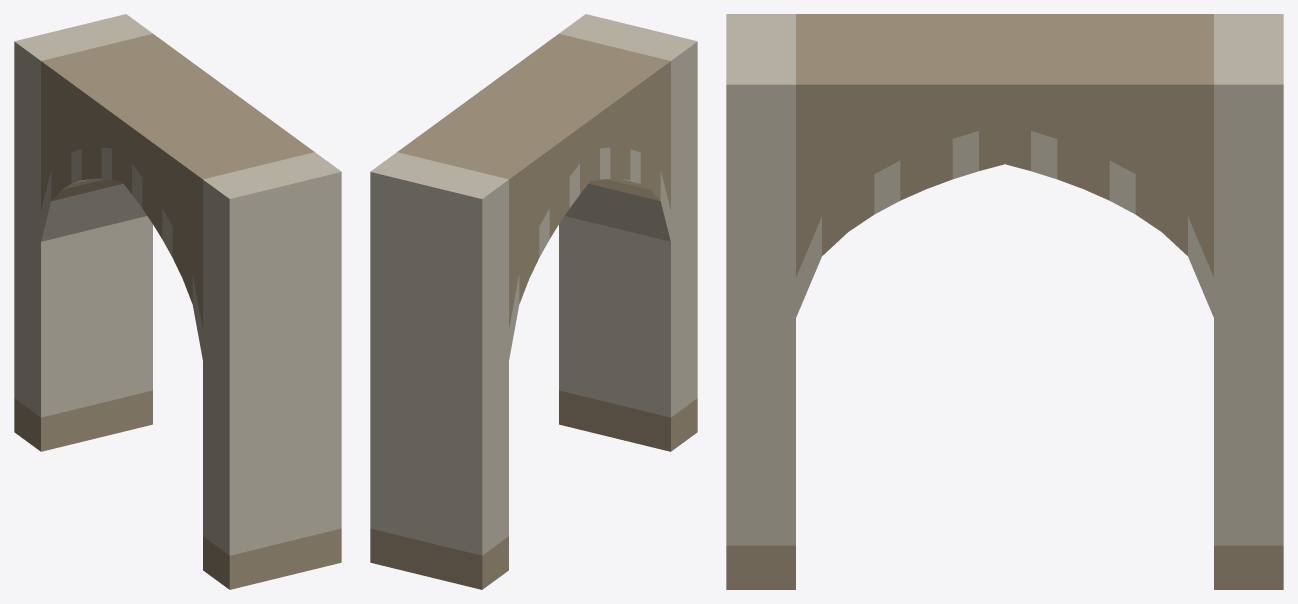
File: GateArch__Single.fbx
The picture shows the model from 3 angles, left to right: view 1: azimuth 30°, elevation 25°; view 2: azimuth 150°, elevation 25°; view 3: azimuth 270°, elevation 25°; orthographic projection. The views are drawn at different scales.
Parts seen in each view (by area): view 1: GateArch__Single; view 2: GateArch__Single; view 3: GateArch__Single.
Boxes of the visible parts, box(x1,y1,x2,y2) form: GateArch__Single: box(14, 14, 341, 589); GateArch__Single: box(370, 14, 697, 589); GateArch__Single: box(726, 14, 1283, 589).
Size of the model in its own units: 120 by 400 by 400.
Materials: 1 (1 with a texture image).
